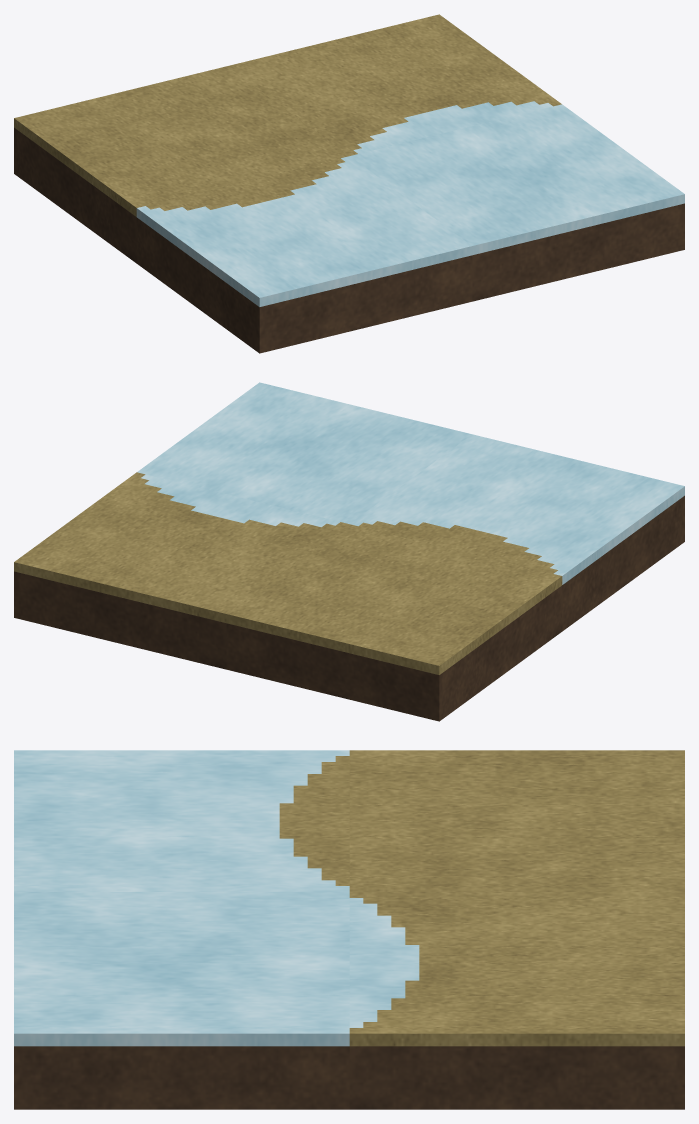
File: ground_shore_sand.glb
The picture shows the model from 3 angles, top to bottom: view 1: azimuth 30°, elevation 25°; view 2: azimuth 150°, elevation 25°; view 3: azimuth 270°, elevation 25°; orthographic projection. The views are drawn at different scales.
Visible parts, largest first — view 1: wilds_tiles_ground_shore_sand; view 2: wilds_tiles_ground_shore_sand; view 3: wilds_tiles_ground_shore_sand.
Part boxes in pixels (<box>): wilds_tiles_ground_shore_sand: <box>14,14,684,353</box>; wilds_tiles_ground_shore_sand: <box>14,382,684,721</box>; wilds_tiles_ground_shore_sand: <box>14,750,684,1109</box>.
Size of the model in its own units: 1 by 0.125 by 1.
1 material, 1 textured.
